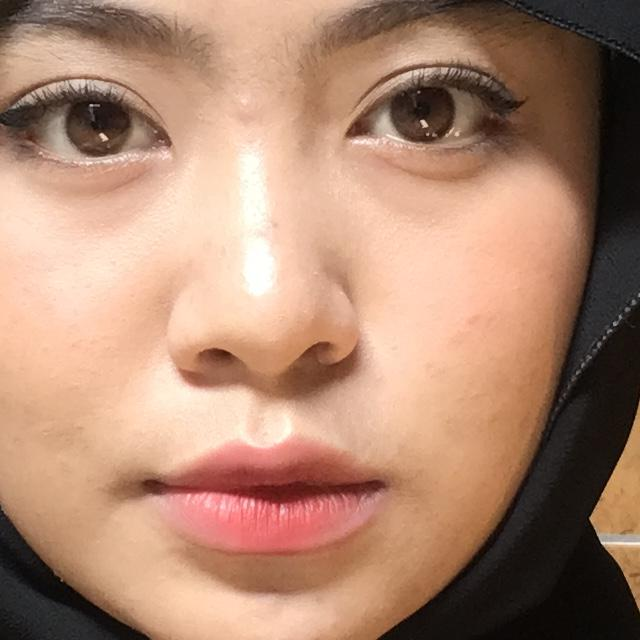ibu: (0, 76, 400, 640)
